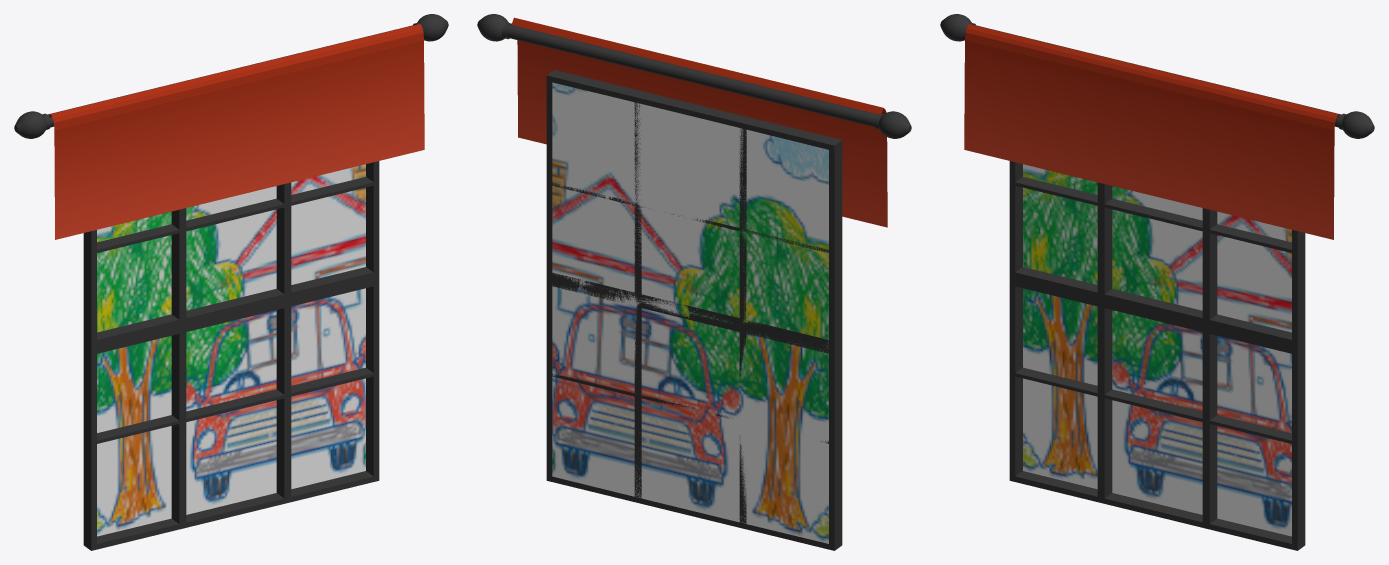
File: Window con UV.fbx
3 views of the same model, side by side, from view 1: azimuth 30°, elevation 25°; view 2: azimuth 150°, elevation 25°; view 3: azimuth 330°, elevation 25° (orthographic).
Parts seen in each view (by area): view 1: Cylinder.004; view 2: Cylinder.004; view 3: Cylinder.004.
Part boxes in pixels (box(x1,y1,x2,y2)): Cylinder.004: box(14, 14, 448, 550); Cylinder.004: box(477, 14, 911, 550); Cylinder.004: box(940, 14, 1374, 550).
Bounding box in the file's own units: 387 × 386 × 23.71.
